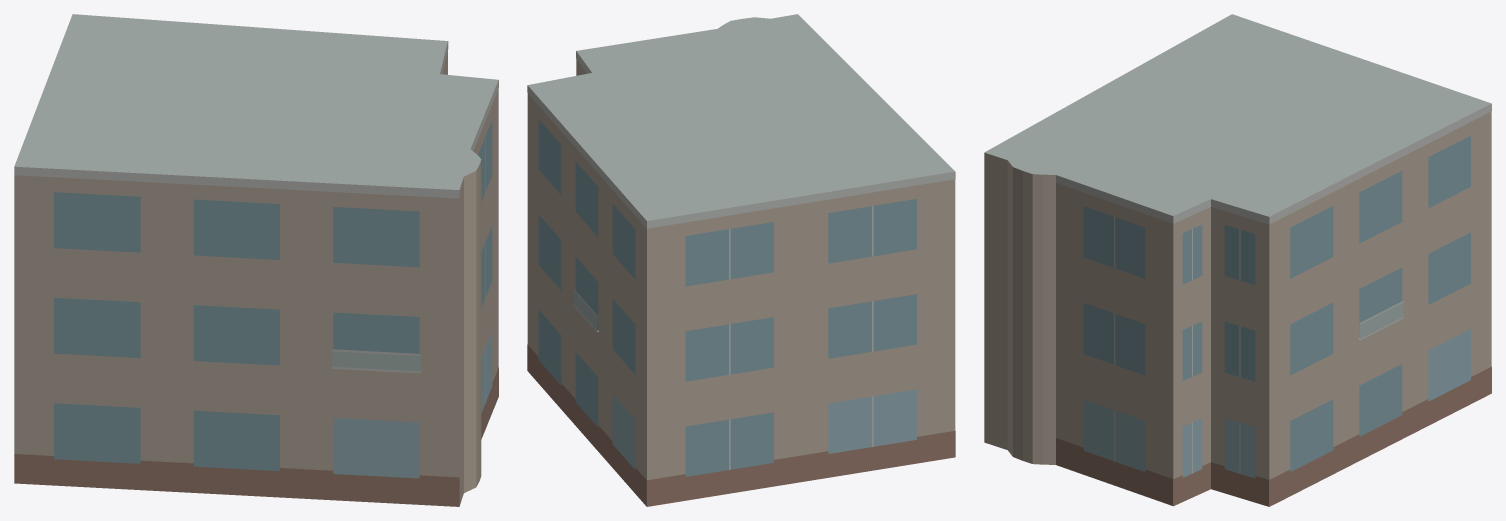
The model's file is survey-upis-32526486.glb.
3 views of the same model, side by side, from view 1: azimuth 30°, elevation 25°; view 2: azimuth 150°, elevation 25°; view 3: azimuth 270°, elevation 25° (orthographic). The views are drawn at different scales.
Parts seen in each view (by area): view 1: survey-upis-32526486.tmp; view 2: survey-upis-32526486.tmp; view 3: survey-upis-32526486.tmp.
Part boxes in pixels (bbox=[...]): survey-upis-32526486.tmp: bbox=[14, 14, 498, 506]; survey-upis-32526486.tmp: bbox=[527, 14, 955, 506]; survey-upis-32526486.tmp: bbox=[984, 14, 1491, 506].
Size of the model in its own units: 13.74 by 9.15 by 14.53.
